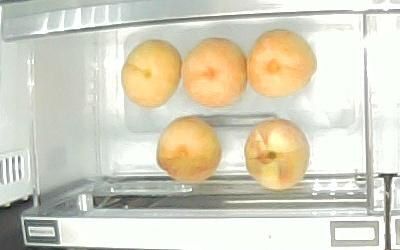peach: (244, 119, 311, 192), (247, 29, 317, 96), (182, 37, 247, 108), (155, 116, 223, 182), (121, 38, 183, 109)
